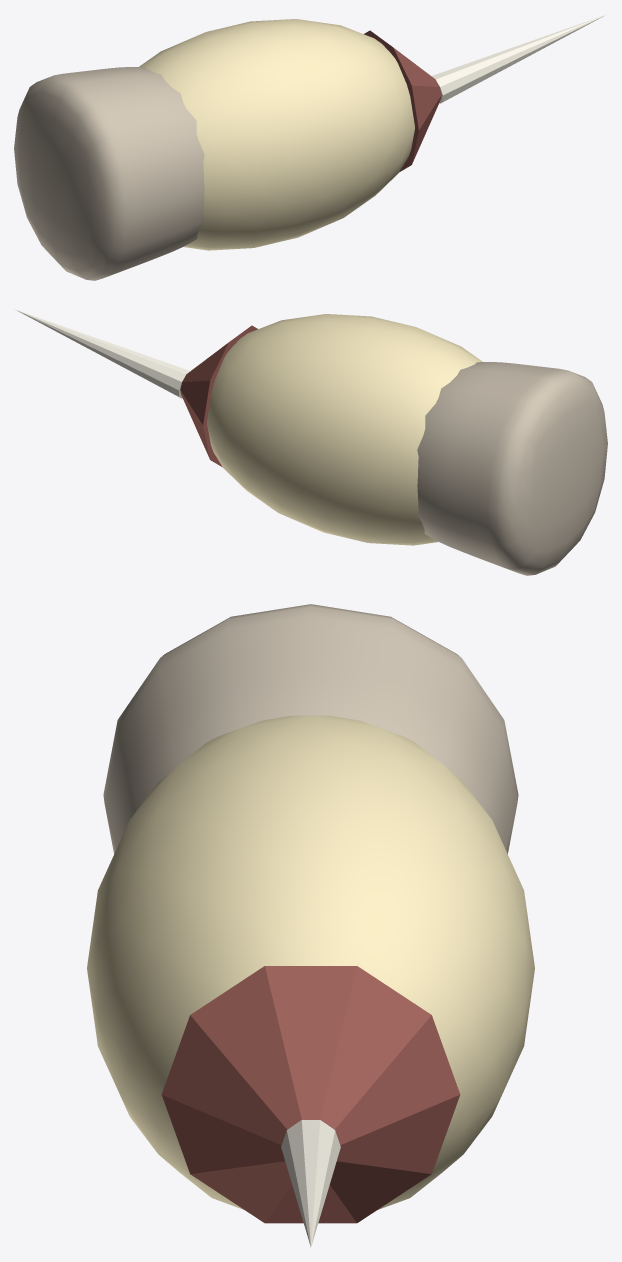
The model's file is cell.nematocyst.glb.
The picture shows the model from 3 angles, top to bottom: view 1: azimuth 30°, elevation 25°; view 2: azimuth 150°, elevation 25°; view 3: azimuth 270°, elevation 25°; orthographic projection. The views are drawn at different scales.
Visible parts, largest first — view 1: Nettle, Skin, Claw, Chitin; view 2: Nettle, Skin, Claw, Chitin; view 3: Nettle, Chitin, Skin, Claw.
Part boxes in pixels (bbox=[...]): Nettle: bbox=[139, 19, 414, 250]; Skin: bbox=[14, 67, 204, 280]; Claw: bbox=[431, 14, 606, 103]; Chitin: bbox=[364, 30, 441, 172]; Nettle: bbox=[207, 314, 482, 545]; Skin: bbox=[417, 362, 607, 575]; Claw: bbox=[15, 309, 190, 398]; Chitin: bbox=[180, 325, 257, 467]; Nettle: bbox=[87, 715, 534, 1209]; Chitin: bbox=[161, 966, 460, 1223]; Skin: bbox=[103, 604, 518, 853]; Claw: bbox=[281, 1120, 340, 1246].
Bounding box in the file's own units: 0.5173 × 0.18 × 0.18.
